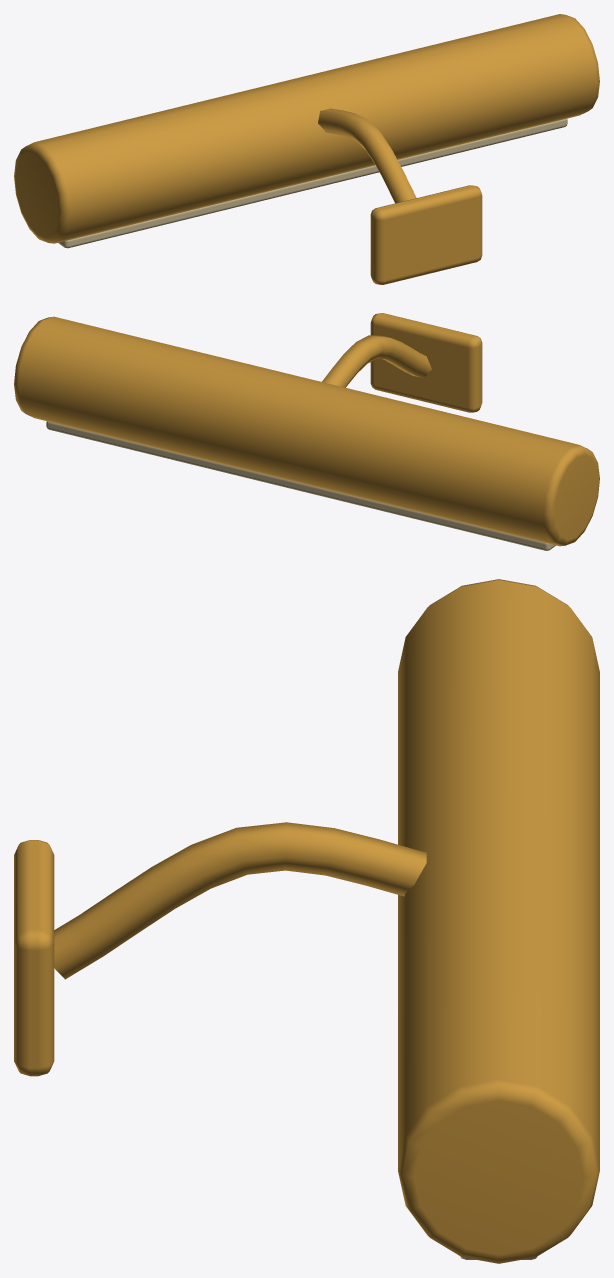
Rendered from mc_picture_light__000.glb.
The picture shows the model from 3 angles, top to bottom: view 1: azimuth 30°, elevation 25°; view 2: azimuth 150°, elevation 25°; view 3: azimuth 270°, elevation 25°; orthographic projection. The views are drawn at different scales.
Visible parts, largest first — view 1: merged_toon_C8963C, prop_mc_picture_light; view 2: merged_toon_C8963C, prop_mc_picture_light; view 3: merged_toon_C8963C.
Part boxes in pixels (bbox=[...]): merged_toon_C8963C: bbox=[14, 14, 599, 284]; prop_mc_picture_light: bbox=[58, 118, 567, 248]; merged_toon_C8963C: bbox=[14, 313, 599, 546]; prop_mc_picture_light: bbox=[46, 421, 555, 550]; merged_toon_C8963C: bbox=[14, 579, 599, 1263].
Size of the model in its own units: 0.6 by 0.1114 by 0.29.
